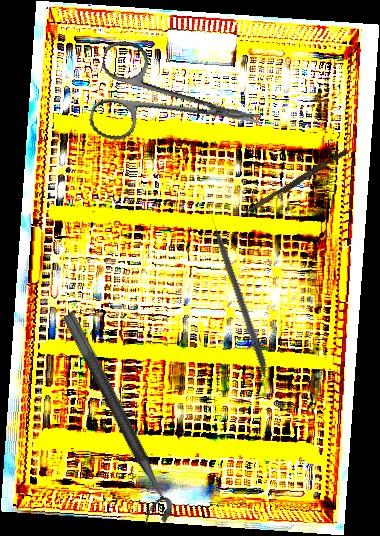Fixation Ring: (44, 310, 180, 532)
Iris Scissors: (86, 37, 271, 172)
Pusher: (205, 204, 269, 369), (238, 146, 349, 222)
